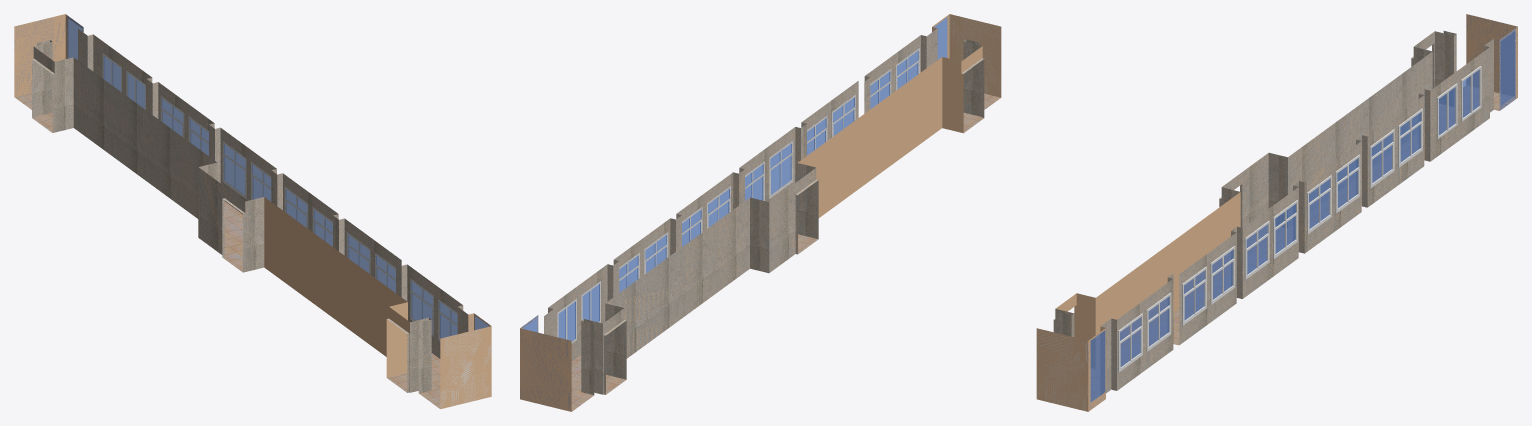
The model's file is COM022.obj.
3 views of the same model, side by side, from view 1: azimuth 30°, elevation 25°; view 2: azimuth 150°, elevation 25°; view 3: azimuth 330°, elevation 25° (orthographic).
Visible parts, largest first — view 1: Mesh91 COM022 Model, Mesh17 ventana1_3_3 COM022 Model, Mesh54 ventana1_3_7 COM022 Model, Mesh9 ventana1_3_2 COM022 Model, Mesh25 ventana1_3_4 COM022 Model, Mesh33 ventana1_3_5 COM022 Model, Mesh1 ventana1_3_1 COM022 Model, Mesh41 ventana1_3_6 COM022 Model, Mesh70 ventana1_3_9 COM022 Model, Mesh62 ventana1_3_8 COM022 Model, Mesh78 ventana1_3_10 COM022 Model, Mesh49 v2_1 COM022 Model (+1 smaller); view 2: Mesh91 COM022 Model, Mesh78 ventana1_3_10 COM022 Model, Mesh49 v2_1 COM022 Model, Mesh86 v2_2 COM022 Model, Mesh62 ventana1_3_8 COM022 Model, Mesh25 ventana1_3_4 COM022 Model, Mesh41 ventana1_3_6 COM022 Model, Mesh1 ventana1_3_1 COM022 Model, Mesh70 ventana1_3_9 COM022 Model, Mesh54 ventana1_3_7 COM022 Model, Mesh9 ventana1_3_2 COM022 Model, Mesh17 ventana1_3_3 COM022 Model (+1 smaller); view 3: Mesh91 COM022 Model, Mesh54 ventana1_3_7 COM022 Model, Mesh78 ventana1_3_10 COM022 Model, Mesh9 ventana1_3_2 COM022 Model, Mesh17 ventana1_3_3 COM022 Model, Mesh62 ventana1_3_8 COM022 Model, Mesh1 ventana1_3_1 COM022 Model, Mesh41 ventana1_3_6 COM022 Model, Mesh33 ventana1_3_5 COM022 Model, Mesh70 ventana1_3_9 COM022 Model, Mesh25 ventana1_3_4 COM022 Model, Mesh49 v2_1 COM022 Model (+1 smaller).
Part boxes in pixels (x1,y1,x2,y2): Mesh91 COM022 Model: [14, 14, 491, 409]; Mesh17 ventana1_3_3 COM022 Model: [222, 141, 246, 199]; Mesh54 ventana1_3_7 COM022 Model: [410, 278, 433, 336]; Mesh9 ventana1_3_2 COM022 Model: [346, 232, 370, 274]; Mesh25 ventana1_3_4 COM022 Model: [284, 186, 308, 228]; Mesh33 ventana1_3_5 COM022 Model: [160, 96, 184, 137]; Mesh1 ventana1_3_1 COM022 Model: [251, 162, 271, 201]; Mesh41 ventana1_3_6 COM022 Model: [438, 299, 457, 340]; Mesh70 ventana1_3_9 COM022 Model: [375, 252, 395, 292]; Mesh62 ventana1_3_8 COM022 Model: [188, 116, 208, 155]; Mesh78 ventana1_3_10 COM022 Model: [312, 207, 332, 246]; Mesh49 v2_1 COM022 Model: [102, 53, 121, 92]; Mesh91 COM022 Model: [520, 14, 1001, 411]; Mesh78 ventana1_3_10 COM022 Model: [769, 140, 793, 198]; Mesh49 v2_1 COM022 Model: [557, 298, 576, 343]; Mesh86 v2_2 COM022 Model: [581, 281, 600, 322]; Mesh62 ventana1_3_8 COM022 Model: [644, 232, 668, 274]; Mesh25 ventana1_3_4 COM022 Model: [745, 161, 764, 200]; Mesh41 ventana1_3_6 COM022 Model: [896, 48, 919, 90]; Mesh1 ventana1_3_1 COM022 Model: [707, 186, 730, 228]; Mesh70 ventana1_3_9 COM022 Model: [832, 94, 855, 137]; Mesh54 ventana1_3_7 COM022 Model: [870, 69, 891, 108]; Mesh9 ventana1_3_2 COM022 Model: [807, 115, 827, 155]; Mesh17 ventana1_3_3 COM022 Model: [682, 207, 702, 246]; Mesh91 COM022 Model: [1036, 14, 1517, 411]; Mesh54 ventana1_3_7 COM022 Model: [1146, 292, 1171, 351]; Mesh78 ventana1_3_10 COM022 Model: [1244, 221, 1269, 279]; Mesh9 ventana1_3_2 COM022 Model: [1210, 246, 1235, 304]; Mesh17 ventana1_3_3 COM022 Model: [1335, 154, 1360, 213]; Mesh62 ventana1_3_8 COM022 Model: [1369, 129, 1394, 188]; Mesh1 ventana1_3_1 COM022 Model: [1307, 175, 1331, 234]; Mesh41 ventana1_3_6 COM022 Model: [1118, 313, 1142, 372]; Mesh33 ventana1_3_5 COM022 Model: [1398, 108, 1422, 167]; Mesh70 ventana1_3_9 COM022 Model: [1182, 266, 1206, 325]; Mesh25 ventana1_3_4 COM022 Model: [1273, 200, 1297, 258]; Mesh49 v2_1 COM022 Model: [1461, 66, 1481, 121].
Bounding box in the file's own units: 3.23 × 3.6 × 39.68.
7 materials, 2 textured.
